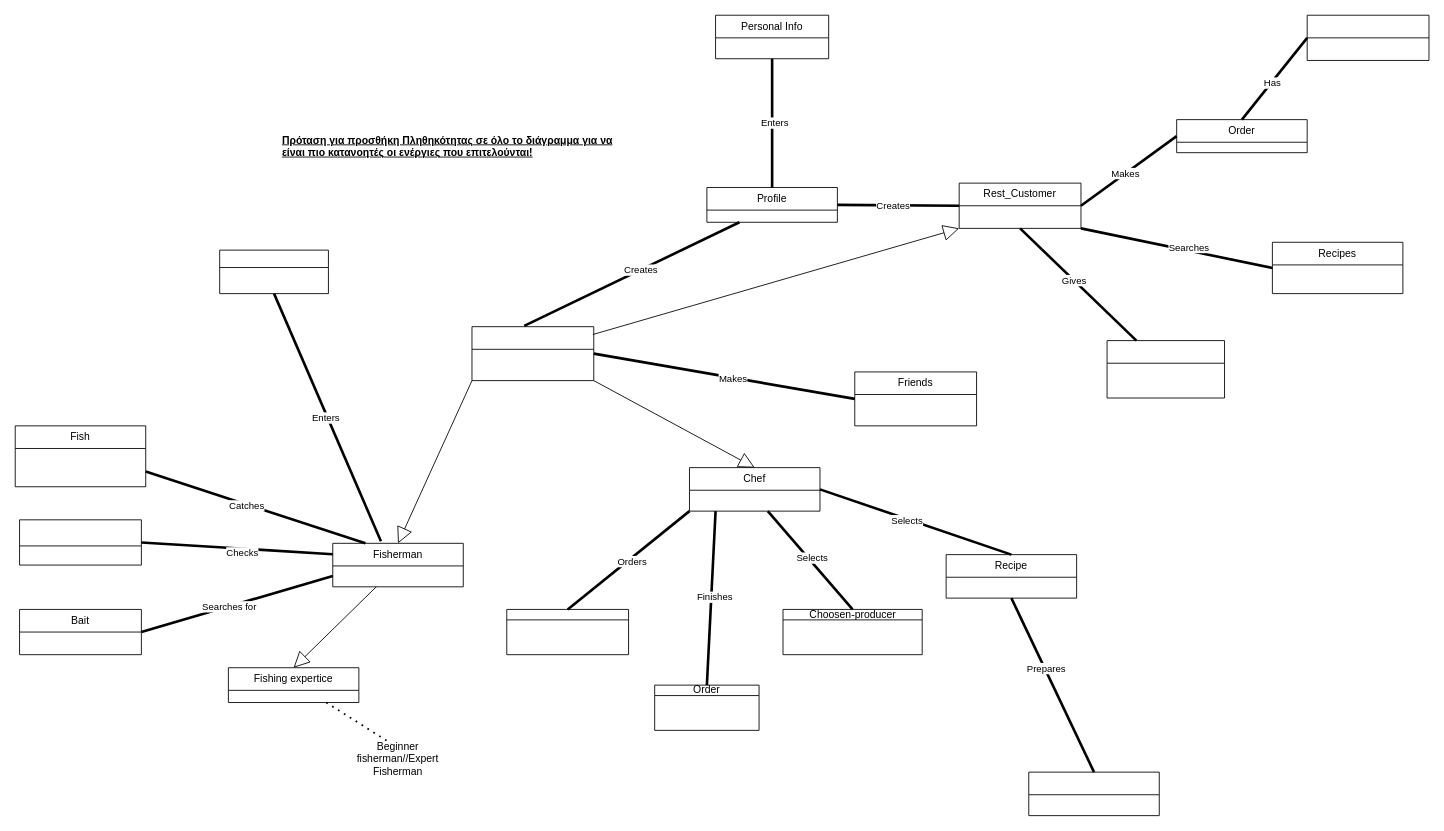
The diagram is 1444 pixels wide and 831 high, and some of its shapes have lost their labels. Here are the shapes that lost their labels. From the top down, the box of each, then its label:
(1306, 14, 1429, 60): Confirmation
(219, 249, 328, 294): FishingReport
(471, 326, 594, 381): User
(1106, 340, 1225, 398): Rating
(19, 519, 141, 565): Weather
(506, 609, 629, 655): Choosen-ingredients
(1028, 771, 1159, 816): Dish
